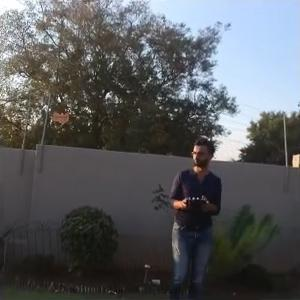follow: (164, 134, 225, 298)
